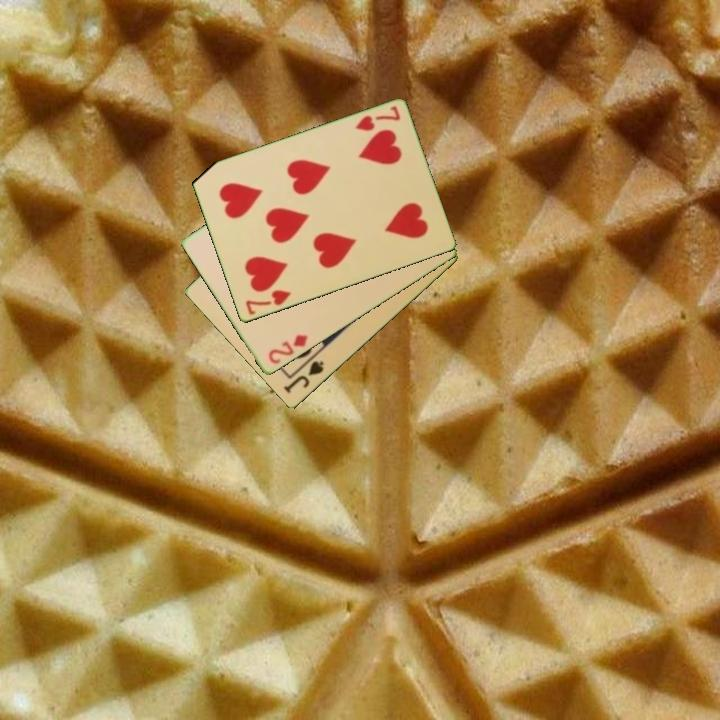2d: (265, 331, 310, 367)
7h: (242, 287, 294, 318), (352, 103, 403, 134)
Js: (280, 357, 327, 397)
